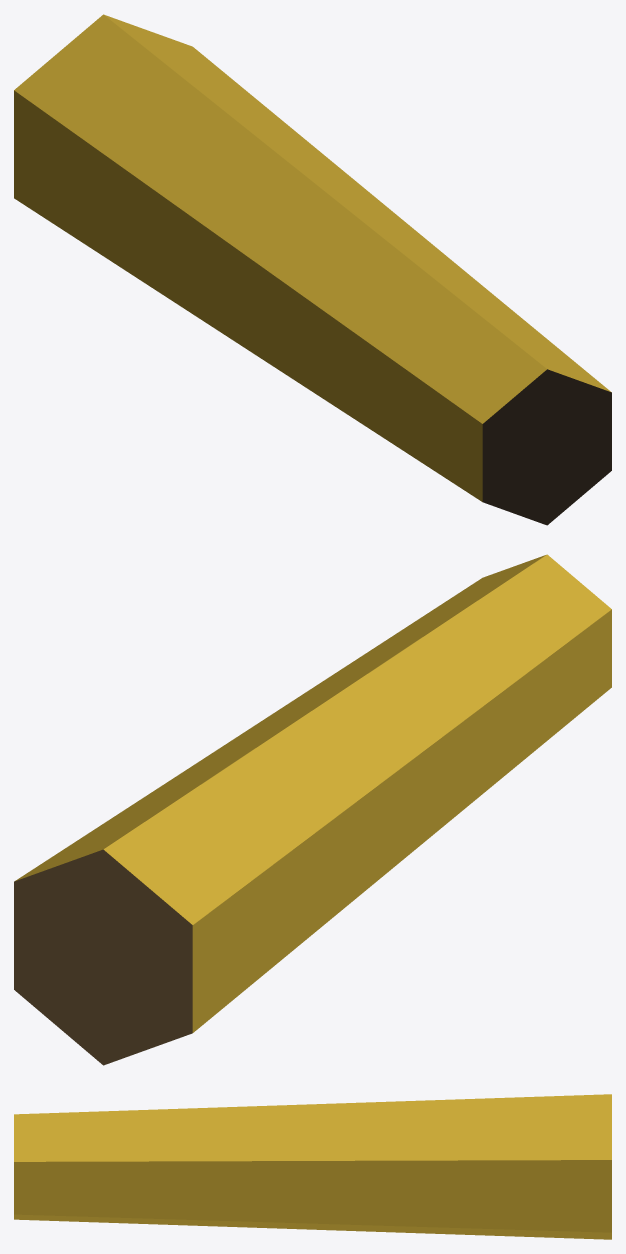
File: shell_casing.glb
The picture shows the model from 3 angles, top to bottom: view 1: azimuth 30°, elevation 25°; view 2: azimuth 150°, elevation 25°; view 3: azimuth 270°, elevation 25°; orthographic projection. The views are drawn at different scales.
Visible parts, largest first — view 1: shell_casing; view 2: shell_casing; view 3: shell_casing.
Part boxes in pixels (x1,y1,x2,y2): shell_casing: [14, 14, 611, 525]; shell_casing: [14, 554, 611, 1065]; shell_casing: [14, 1094, 611, 1239].
Bounding box in the file's own units: 0.00814 × 0.0094 × 0.035.
